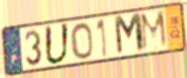1: (96, 18, 109, 59)
3: (24, 28, 43, 67)
M: (113, 11, 147, 58), (139, 8, 170, 53)
O: (69, 21, 95, 61)
U: (44, 22, 71, 66)
